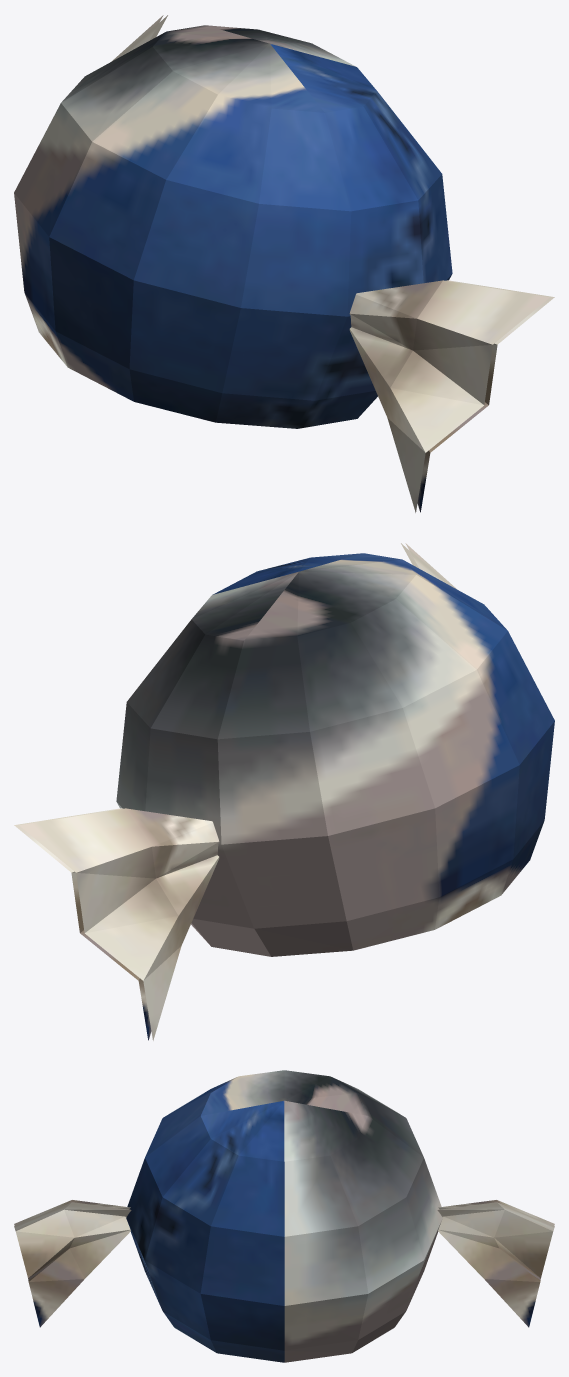
File: Penguin_candyHat.obj
The picture shows the model from 3 angles, top to bottom: view 1: azimuth 30°, elevation 25°; view 2: azimuth 150°, elevation 25°; view 3: azimuth 270°, elevation 25°; orthographic projection. The views are drawn at different scales.
Visible parts, largest first — view 1: Penguin_candyHat_tri; view 2: Penguin_candyHat_tri; view 3: Penguin_candyHat_tri.
Boxes of the visible parts, x1,y1,x2,y2 form: Penguin_candyHat_tri: [14, 15, 554, 512]; Penguin_candyHat_tri: [14, 543, 554, 1040]; Penguin_candyHat_tri: [14, 1070, 554, 1362].
Size of the model in its own units: 0.4408 by 0.3845 by 0.8012.
Materials: 1 (1 with a texture image).
